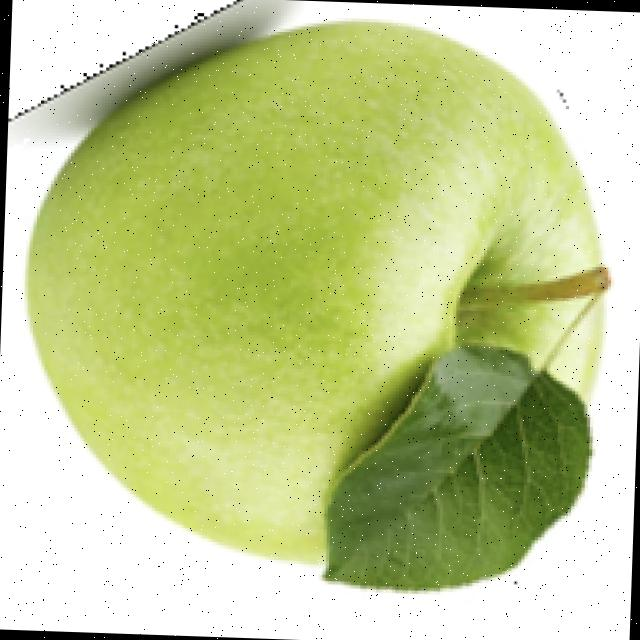apple: (10, 0, 616, 596)
